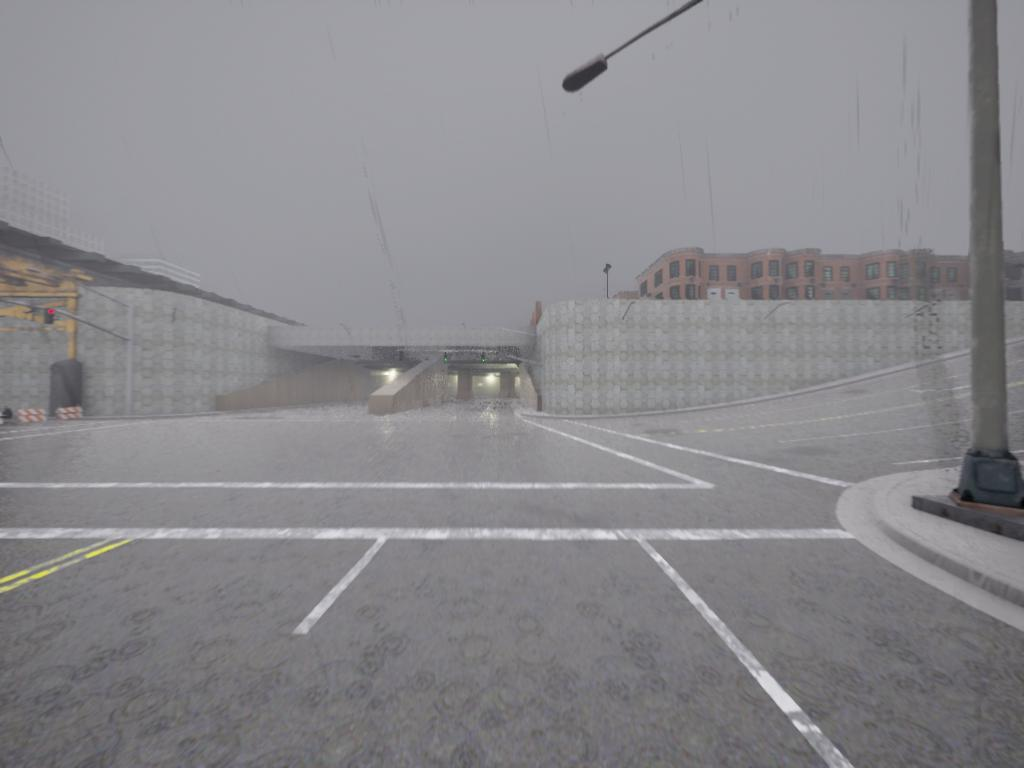traffic_light: (43, 305, 58, 331), (399, 351, 406, 363), (481, 352, 486, 366), (444, 353, 449, 365)
